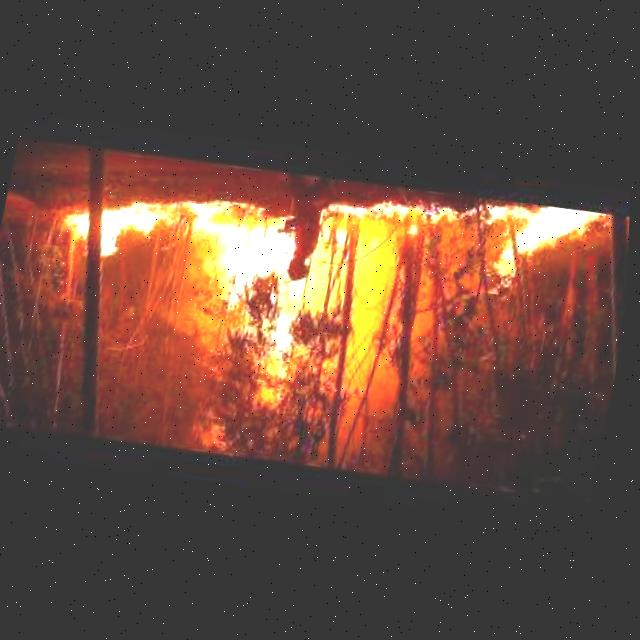Fire: (32, 185, 380, 434), (399, 190, 608, 312)
